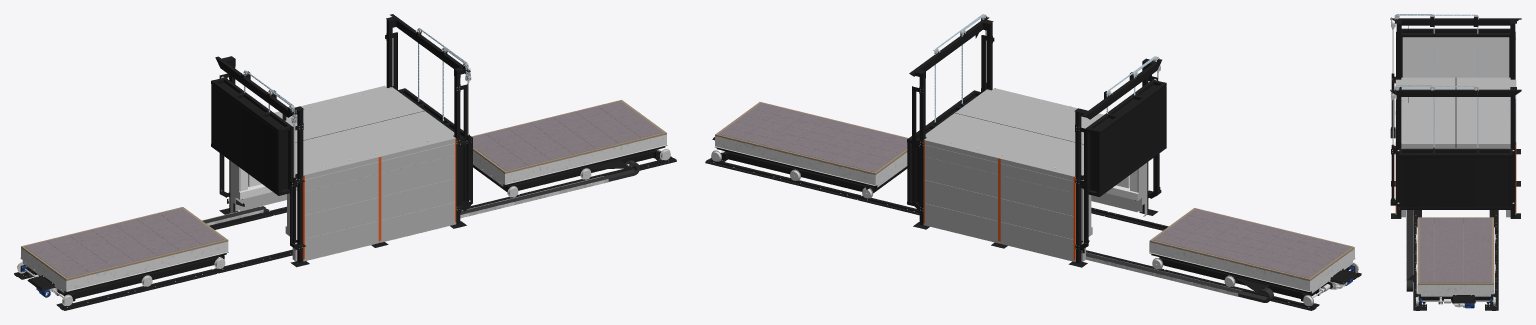
The model's file is PIEC.glb.
3 renders of one model, left to right at view 1: azimuth 30°, elevation 25°; view 2: azimuth 150°, elevation 25°; view 3: azimuth 270°, elevation 25°, orthographic. The views are drawn at different scales.
Visible parts, largest first — view 1: Cube.008, Cube.007, Cube.017, Cube.028, Cube.004, Cube.022, PRO-000060662:3, PRO-000060662:3.001, Cube.018, Cube.005, Cube.023, PRO-000050410:2 (+10 smaller); view 2: Cube.008, Cube.007, Cube.017, Cube.028, Cube.004, Cube.022, PRO-000060662:3, PRO-000060662:3.001, Cube.018, Cube.005, Cube.003, Cube.006 (+10 smaller); view 3: Cube.007, Cube.006, Cube.028, PRO-000049121:2, Cube.022, Cube.004, PRO-000060662:3.001, Cube.018, PRO-000050410:2.001, IGUS_5.025m-E2i.48.125.100.0.3125.34PZ.A2.1:1, HYDROLIDER_CJ2F.50.28.1220:2, PRO-000047875:1 (+16 smaller).
Boxes of the visible parts, bbox=[...] form: Cube.008: bbox=[303, 143, 456, 261]; Cube.007: bbox=[274, 86, 455, 179]; Cube.017: bbox=[24, 208, 224, 277]; Cube.028: bbox=[472, 101, 663, 170]; Cube.004: bbox=[211, 77, 292, 195]; Cube.022: bbox=[215, 14, 470, 267]; PRO-000060662:3: bbox=[20, 241, 228, 293]; PRO-000060662:3.001: bbox=[473, 134, 667, 186]; Cube.018: bbox=[14, 156, 676, 310]; Cube.005: bbox=[17, 158, 670, 308]; Cube.023: bbox=[20, 257, 218, 301]; PRO-000050410:2: bbox=[21, 207, 228, 280]; Cube.008: bbox=[923, 145, 1075, 261]; Cube.007: bbox=[924, 88, 1103, 180]; Cube.017: bbox=[1153, 209, 1351, 278]; Cube.028: bbox=[719, 103, 907, 172]; Cube.004: bbox=[1086, 79, 1166, 196]; Cube.022: bbox=[909, 16, 1161, 267]; PRO-000060662:3: bbox=[1149, 242, 1354, 293]; PRO-000060662:3.001: bbox=[715, 136, 907, 187]; Cube.018: bbox=[705, 158, 1361, 310]; Cube.005: bbox=[711, 160, 1358, 308]; Cube.003: bbox=[721, 151, 907, 193]; Cube.006: bbox=[907, 90, 982, 205]; Cube.007: bbox=[1396, 77, 1516, 147]; Cube.006: bbox=[1399, 148, 1512, 209]; Cube.028: bbox=[1419, 218, 1491, 282]; PRO-000049121:2: bbox=[1402, 37, 1509, 77]; Cube.022: bbox=[1390, 17, 1521, 218]; Cube.004: bbox=[1401, 28, 1510, 77]; PRO-000060662:3.001: bbox=[1416, 219, 1494, 296]; Cube.018: bbox=[1413, 210, 1498, 310]; PRO-000050410:2.001: bbox=[1418, 217, 1493, 284]; IGUS_5.025m-E2i.48.125.100.0.3125.34PZ.A2.1:1: bbox=[1406, 210, 1412, 291]; HYDROLIDER_CJ2F.50.28.1220:2: bbox=[1391, 101, 1394, 200]; PRO-000047875:1: bbox=[1390, 100, 1397, 205].
Bounding box in the file's own units: 13.96 × 3.39 × 3.01.
Materials: 16 (4 with a texture image).
